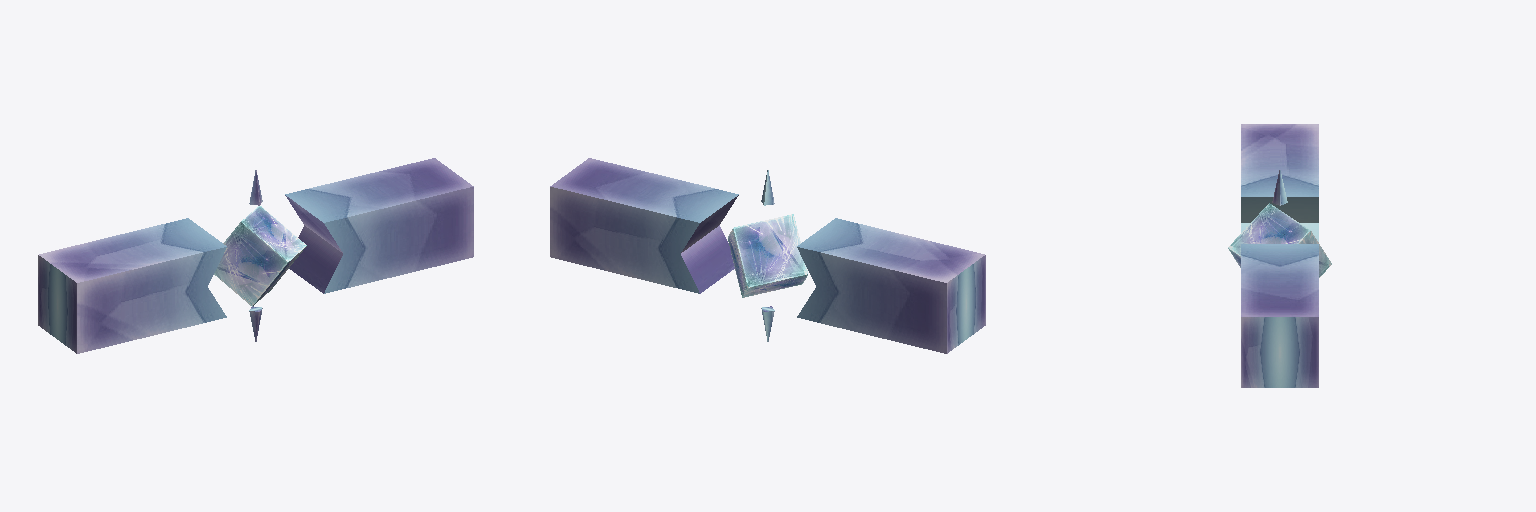
The picture shows the model from 3 angles: view 1: azimuth 30°, elevation 25°; view 2: azimuth 150°, elevation 25°; view 3: azimuth 270°, elevation 25°; orthographic projection.
Visible parts, largest first — view 1: Cube, Cube.1; view 2: Cube, Cube.1; view 3: Cube, Cube.1.
Part boxes in pixels (x1,y1,x2,y2): Cube: (38,158,473,353); Cube.1: (214,206,306,306); Cube: (550,158,985,353); Cube.1: (728,214,807,297); Cube: (1241,124,1318,387); Cube.1: (1228,203,1331,277).
Size of the model in its own units: 1.17 by 0.5 by 0.2674.
2 materials, 2 textured.